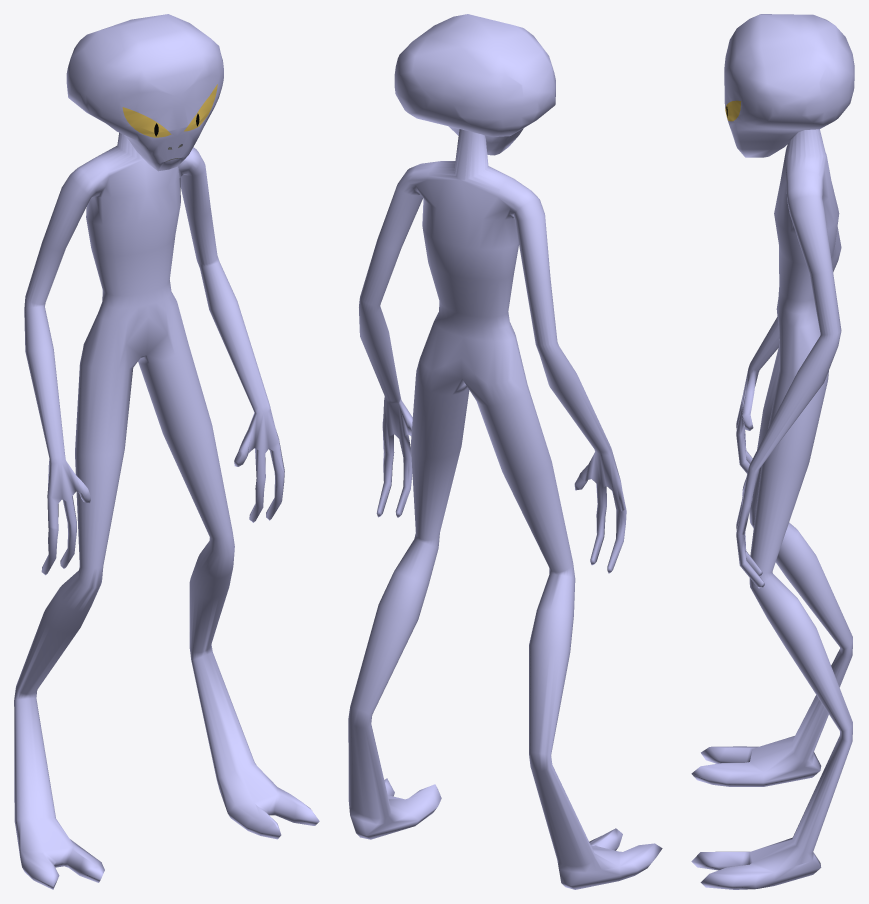
File: alien.dae
3 renders of one model, left to right at view 1: azimuth 30°, elevation 25°; view 2: azimuth 150°, elevation 25°; view 3: azimuth 270°, elevation 25°, orthographic. The views are drawn at different scales.
Parts seen in each view (by area): view 1: Component_1, Component_23 (×2); view 2: Component_1, Component_23; view 3: Component_1, Component_23.
Boxes of the visible parts, box(x1,y1,x2,y2) form: Component_1: box(14, 132, 319, 889); Component_23 (×2): box(66, 14, 223, 171); Component_1: box(348, 129, 662, 889); Component_23: box(394, 14, 555, 155); Component_1: box(691, 129, 852, 889); Component_23: box(724, 14, 854, 157).
Size of the model in its own units: 32.71 by 16.62 by 90.19.
